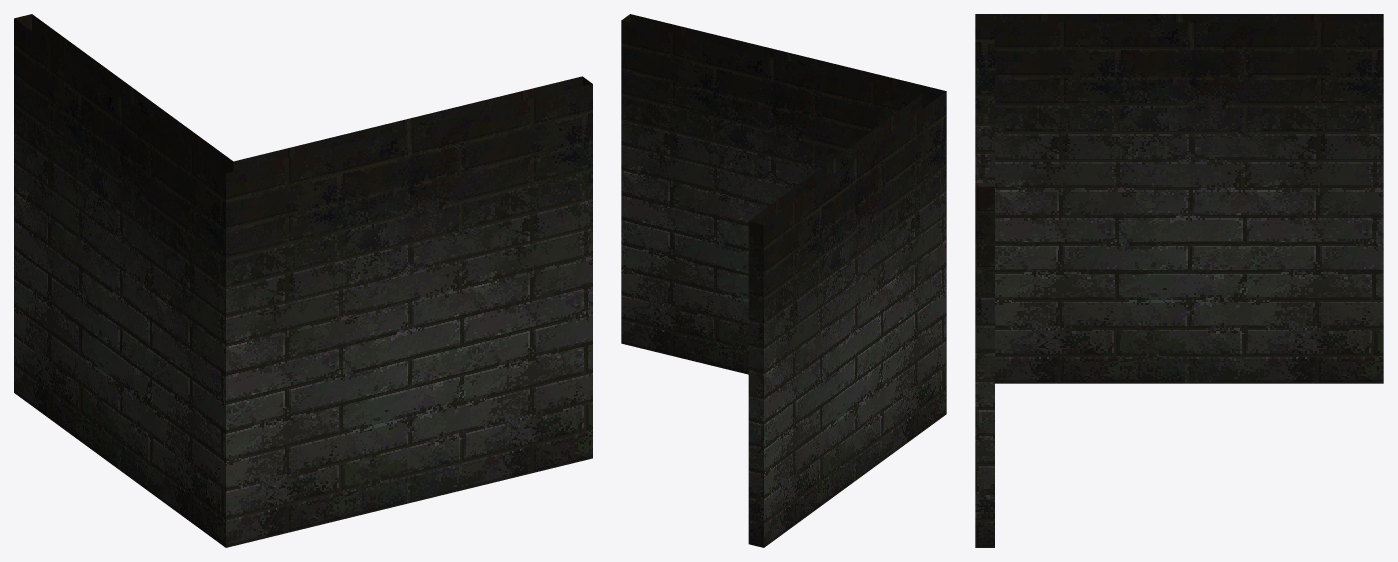
File: WallCorner.glb
3 renders of one model, left to right at view 1: azimuth 30°, elevation 25°; view 2: azimuth 150°, elevation 25°; view 3: azimuth 270°, elevation 25°, orthographic. The views are drawn at different scales.
Visible parts, largest first — view 1: WallCorner; view 2: WallCorner; view 3: WallCorner.
Part boxes in pixels (x1=…): WallCorner: x1=14, y1=14, x2=592, y2=547; WallCorner: x1=621, y1=14, x2=946, y2=547; WallCorner: x1=975, y1=14, x2=1383, y2=547.
Size of the model in its own units: 4.1 by 4 by 4.1.
Materials: 1 (1 with a texture image).
